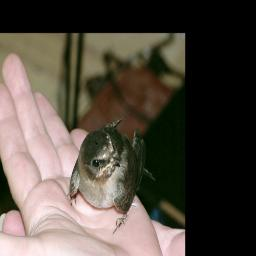Swallow: (67, 116, 158, 238)
